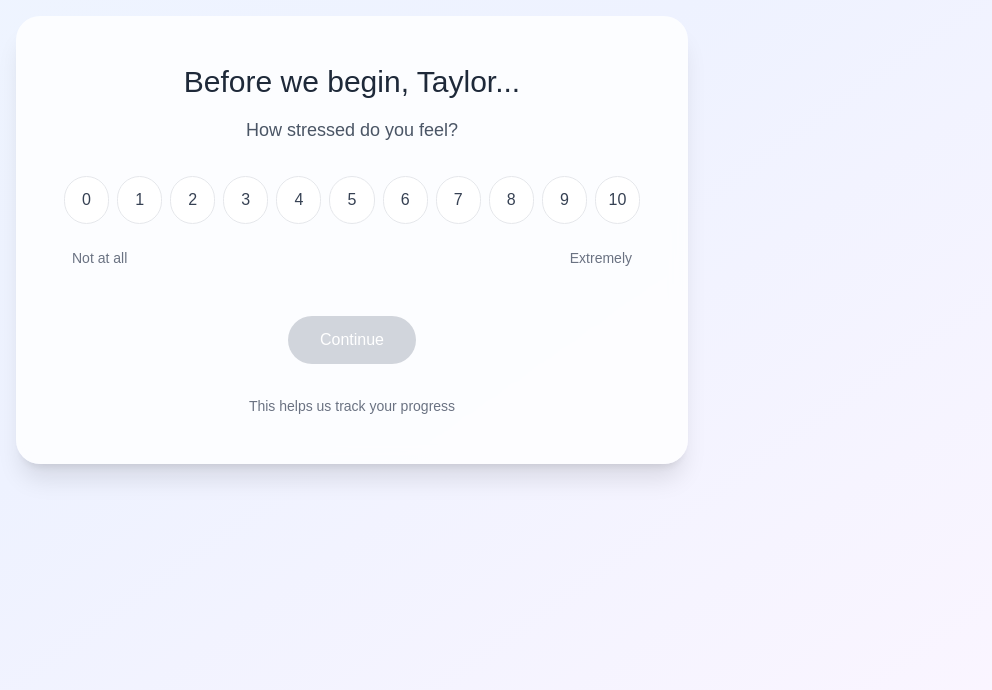
Scenario: PreSessionRating › should enable continue button after rating selected
Step 1. Click the button "7" → (458, 200), box [436,176,481,224]
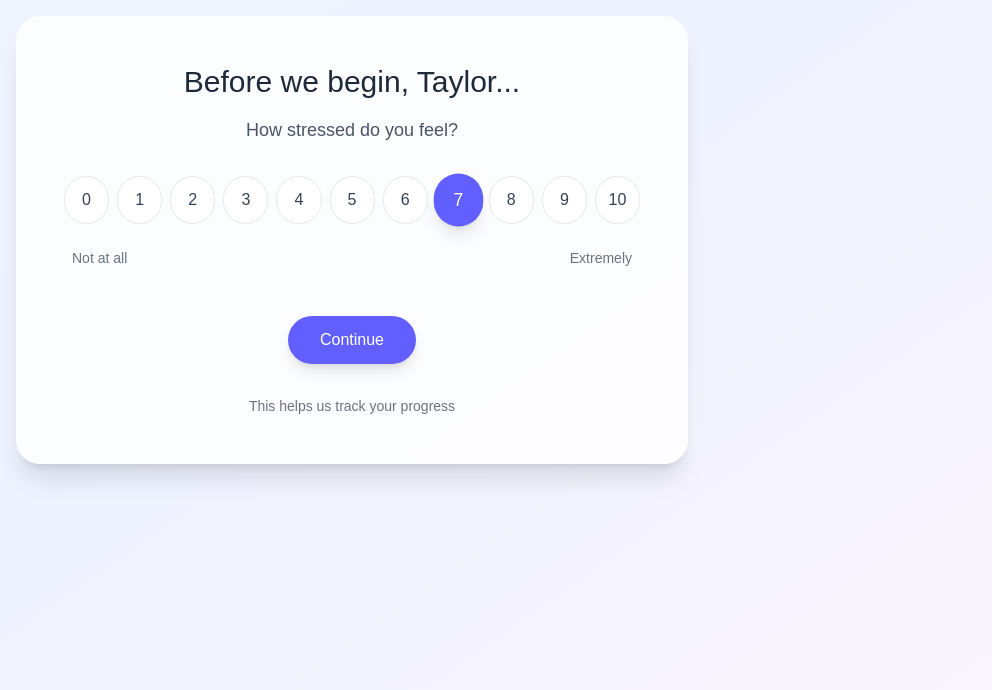
Expected: the button "Continue" is enabled, [288,316,416,364]
